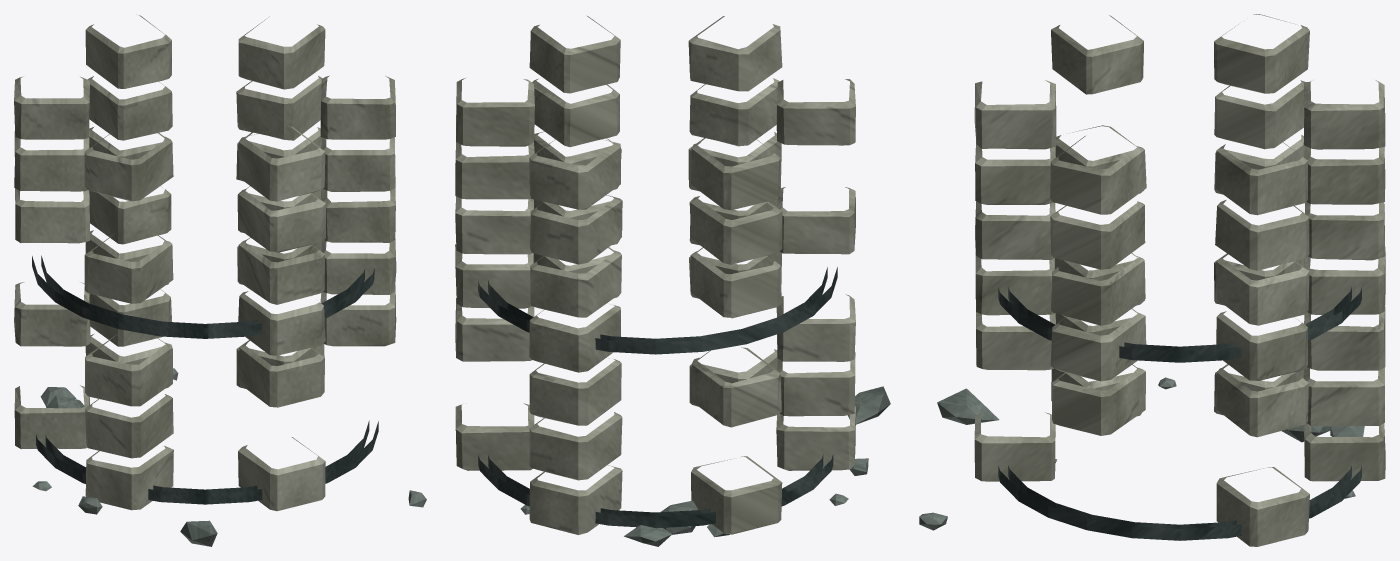
Rendered from 0420_ruined_tower_20.glb.
3 renders of one model, left to right at view 1: azimuth 30°, elevation 25°; view 2: azimuth 150°, elevation 25°; view 3: azimuth 270°, elevation 25°, orthographic. The views are drawn at different scales.
Visible parts, largest first — view 1: stone_light, stone_dark, stone; view 2: stone_light, stone_dark, stone; view 3: stone_light, stone_dark, stone.
Part boxes in pixels (left/top/right/bottom): stone_light: left=14, top=14, right=396, bottom=511; stone_dark: left=32, top=255, right=378, bottom=504; stone: left=32, top=368, right=426, bottom=546; stone_light: left=455, top=15, right=855, bottom=534; stone_dark: left=478, top=267, right=837, bottom=528; stone: left=520, top=353, right=890, bottom=546; stone_light: left=974, top=14, right=1385, bottom=546; stone_dark: left=998, top=287, right=1361, bottom=540; stone: left=919, top=377, right=1364, bottom=530.
Size of the model in its own units: 2.83 by 2.93 by 3.21.
3 materials, 3 textured.
